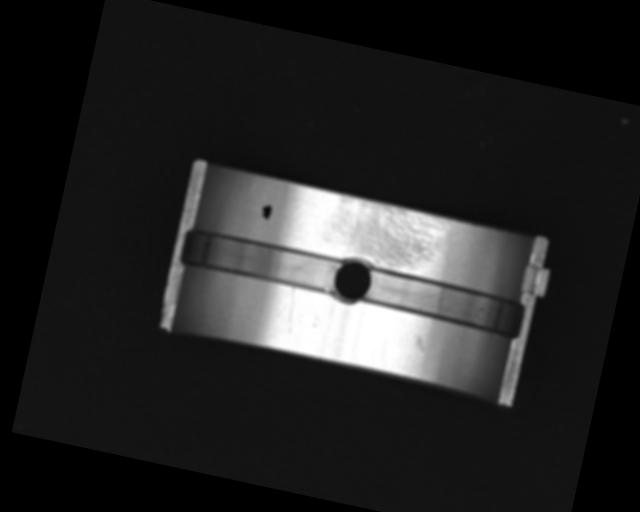blot: (258, 202, 274, 221)
bruise: (412, 335, 429, 353)
gap: (359, 265, 528, 338), (179, 224, 344, 297)
hole: (328, 252, 376, 310)
nick: (284, 286, 299, 324)
scratch: (316, 192, 450, 279)
